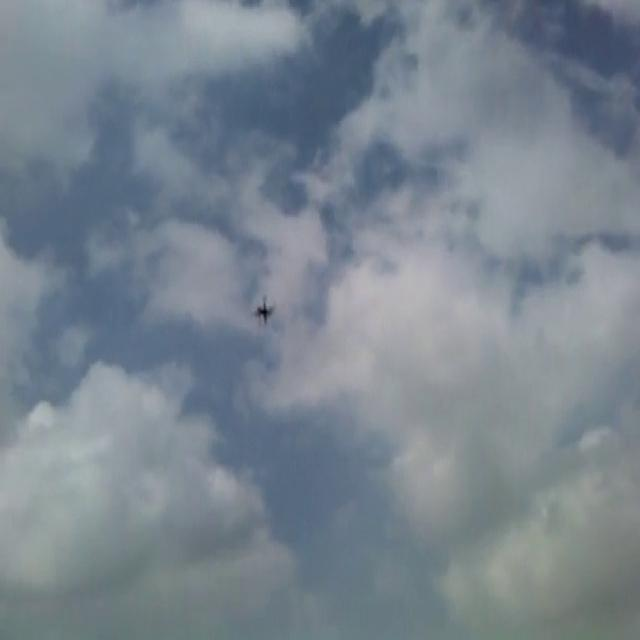drone: (252, 285, 276, 327)
